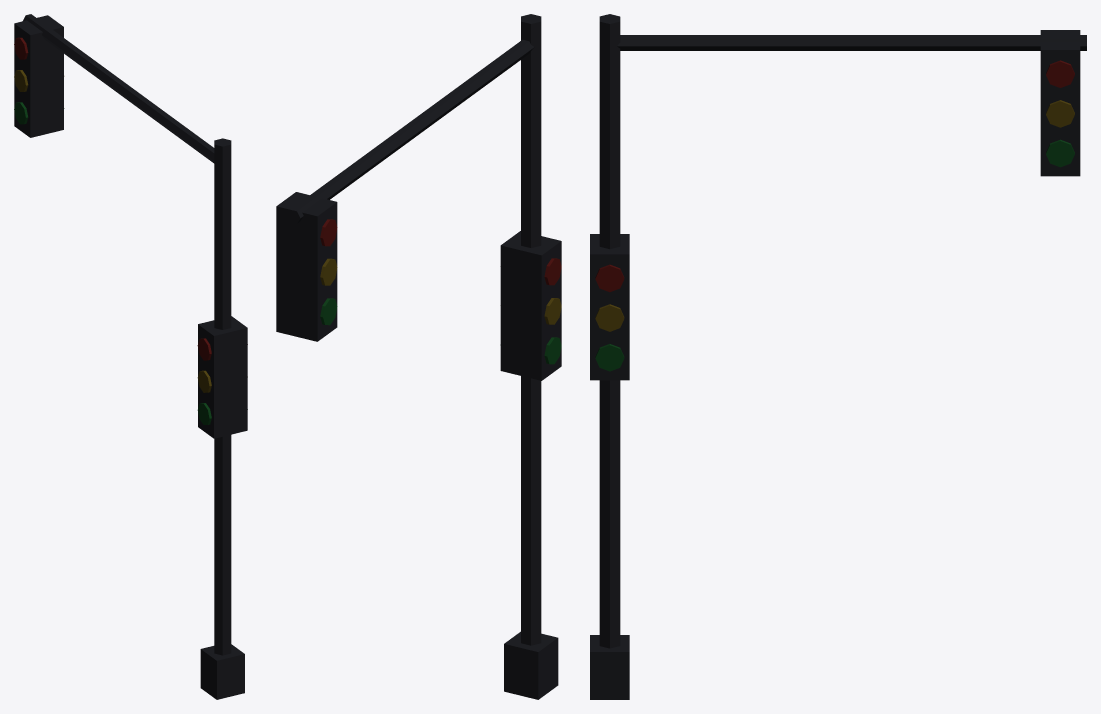
File: prop_traffic_light.glb
3 renders of one model, left to right at view 1: azimuth 30°, elevation 25°; view 2: azimuth 150°, elevation 25°; view 3: azimuth 270°, elevation 25°, orthographic. The views are drawn at different scales.
Visible parts, largest first — view 1: prop_traffic_light__mesh; view 2: prop_traffic_light__mesh; view 3: prop_traffic_light__mesh.
Part boxes in pixels (x1,y1,x2,y2): prop_traffic_light__mesh: [14, 14, 247, 699]; prop_traffic_light__mesh: [276, 14, 561, 699]; prop_traffic_light__mesh: [590, 14, 1086, 699].
Bounding box in the file's own units: 0.41 × 5.6 × 3.75.
